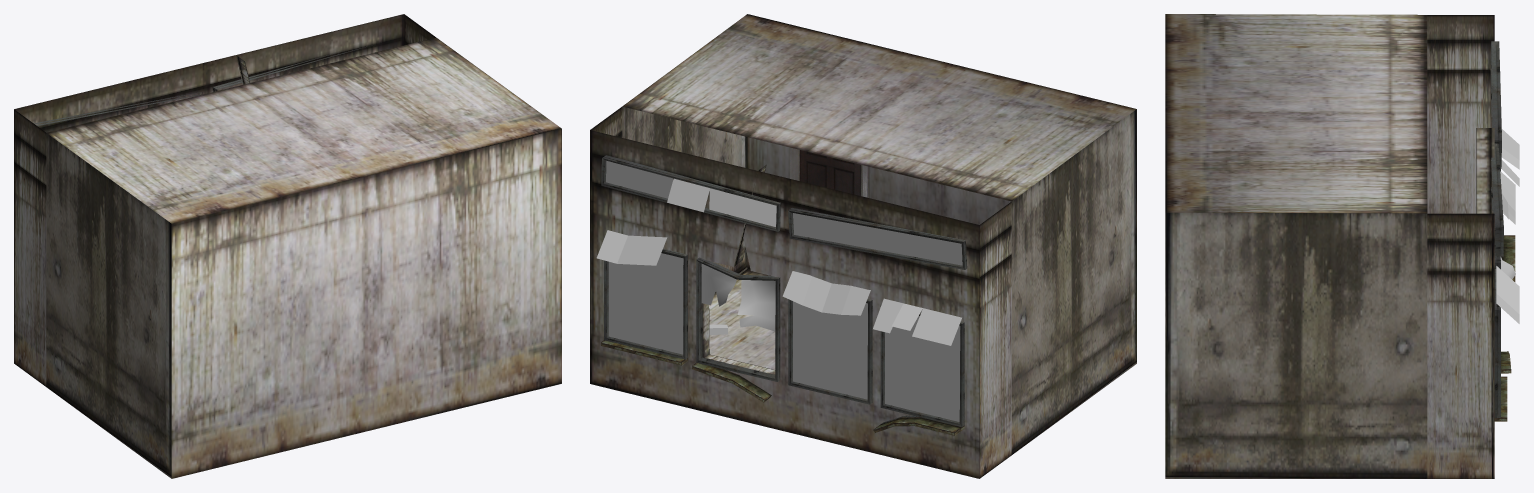
File: Store_front_9_B.fbx
3 views of the same model, side by side, from view 1: azimuth 30°, elevation 25°; view 2: azimuth 150°, elevation 25°; view 3: azimuth 270°, elevation 25° (orthographic). The views are drawn at different scales.
Visible parts, largest first — view 1: Store_front_9_B; view 2: Store_front_9_B; view 3: Store_front_9_B.
Boxes of the visible parts, left/top/right/bottom form: Store_front_9_B: left=14, top=14, right=561, bottom=478; Store_front_9_B: left=590, top=14, right=1136, bottom=478; Store_front_9_B: left=1165, top=14, right=1519, bottom=478.
Bounding box in the file's own units: 700 × 444 × 527.
